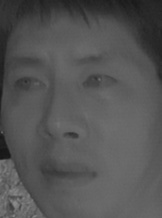eye: (12, 74, 49, 98), (80, 71, 118, 94)
mouth: (36, 154, 97, 190)
